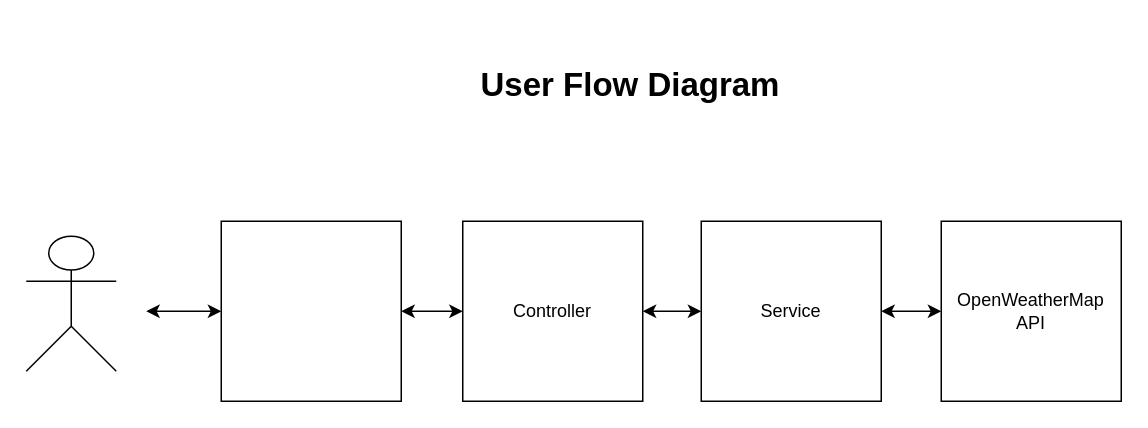
Image size: 1148x428. Some labels were removed from this diagram. Each missing label, with the centre of its shape:
"Client get weather info by location" belongs at point 310,310.
"User" belongs at point 70,303.
